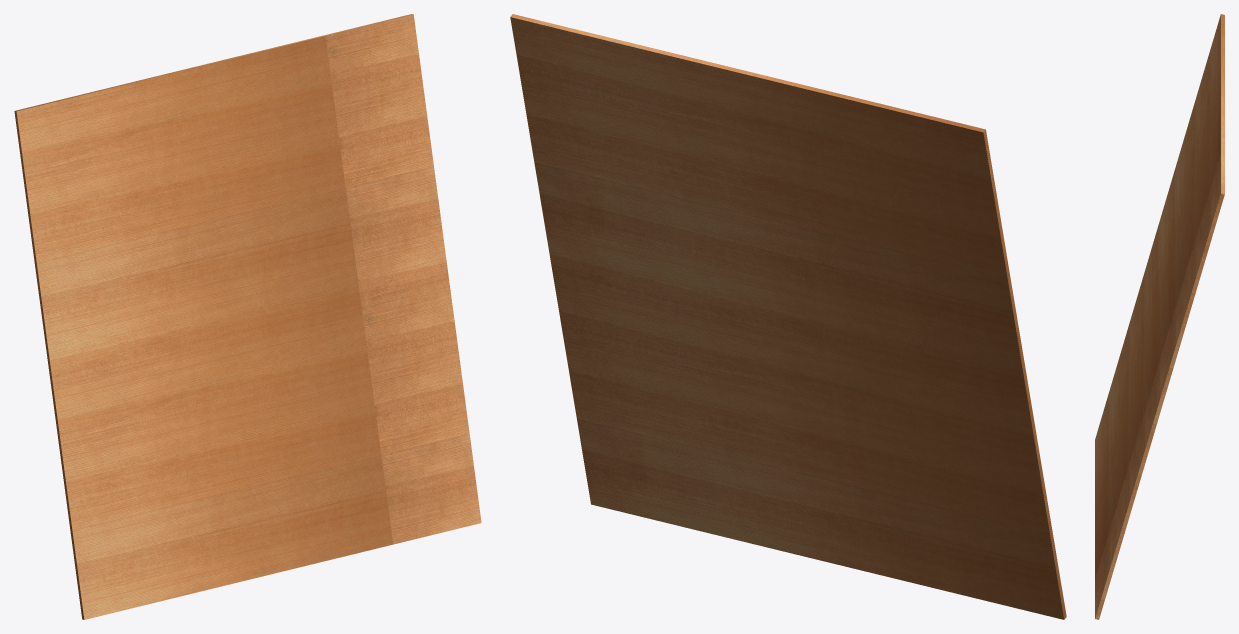
The model's file is original-4.obj.
The picture shows the model from 3 angles, left to right: view 1: azimuth 30°, elevation 25°; view 2: azimuth 150°, elevation 25°; view 3: azimuth 270°, elevation 25°; orthographic projection. The views are drawn at different scales.
Parts seen in each view (by area): view 1: group_1/ID5#ID5; view 2: group_1/ID5#ID5; view 3: group_1/ID5#ID5.
Boxes of the visible parts, x1,y1,x2,y2 form: group_1/ID5#ID5: (14, 14, 481, 619); group_1/ID5#ID5: (510, 14, 1066, 619); group_1/ID5#ID5: (1095, 14, 1224, 619).
Bounding box in the file's own units: 0.5017 × 0.5551 × 0.153.
